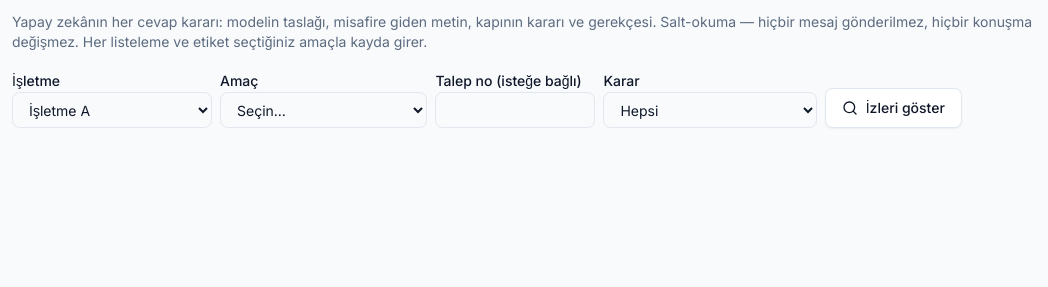
Scenario: kalite konsolu — geç gelen yanıt güncel seçimin altında görünmez (H3) › 🚨 A uçuştayken B seçildi → A'nın yanıtı gelince satırları GÖRÜNMEZ; düğme hemen kullanılabilir; B'nin yanıtı görünür
Step 1. Select "Kalite incelemesi" in the dropdown labelled "Amaç" → (324, 110), box x1=220 y1=92 x2=427 y2=128
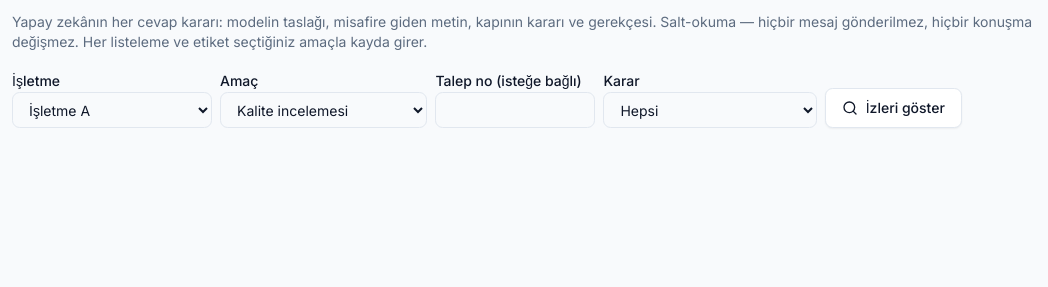
Step 2. Click the button "İzleri göster" → (893, 108), box x1=825 y1=88 x2=962 y2=128
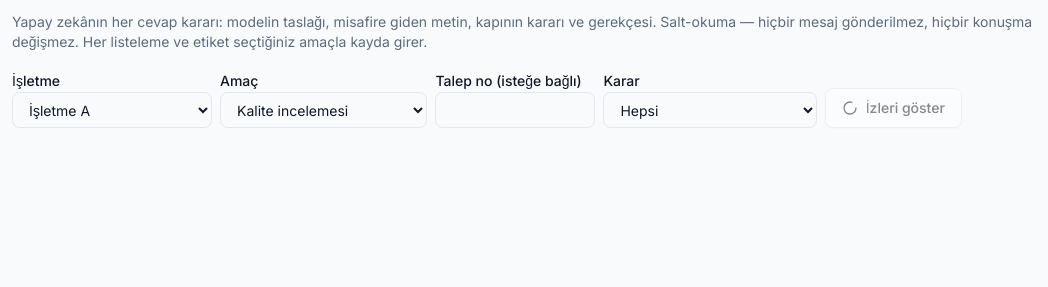
Step 3. Select "İşletme B" in the dropdown labelled "İşletme" → (112, 110), box x1=12 y1=92 x2=212 y2=128
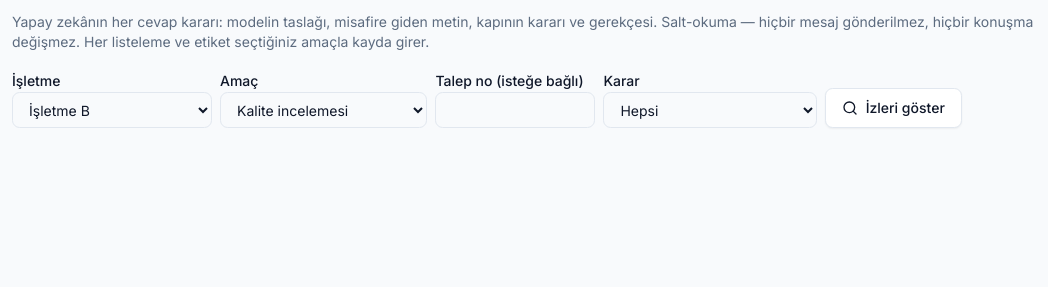
Now the button "İzleri göster" is enabled
Step 4. Click the button "İzleri göster" → (893, 108), box x1=825 y1=88 x2=962 y2=128
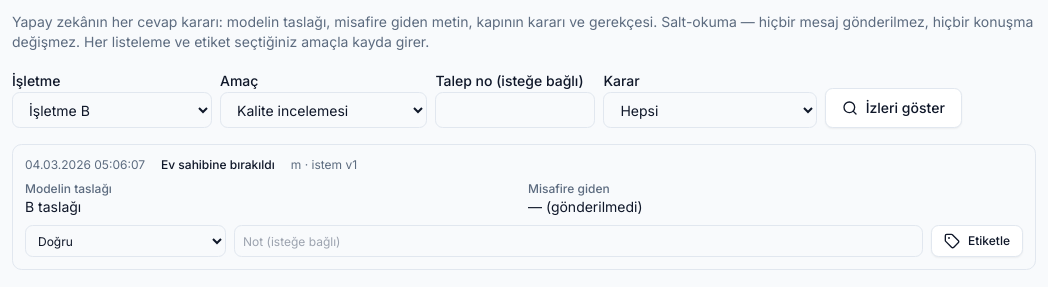
Now the text "B taslağı" is shown, box x1=25 y1=198 x2=81 y2=215
